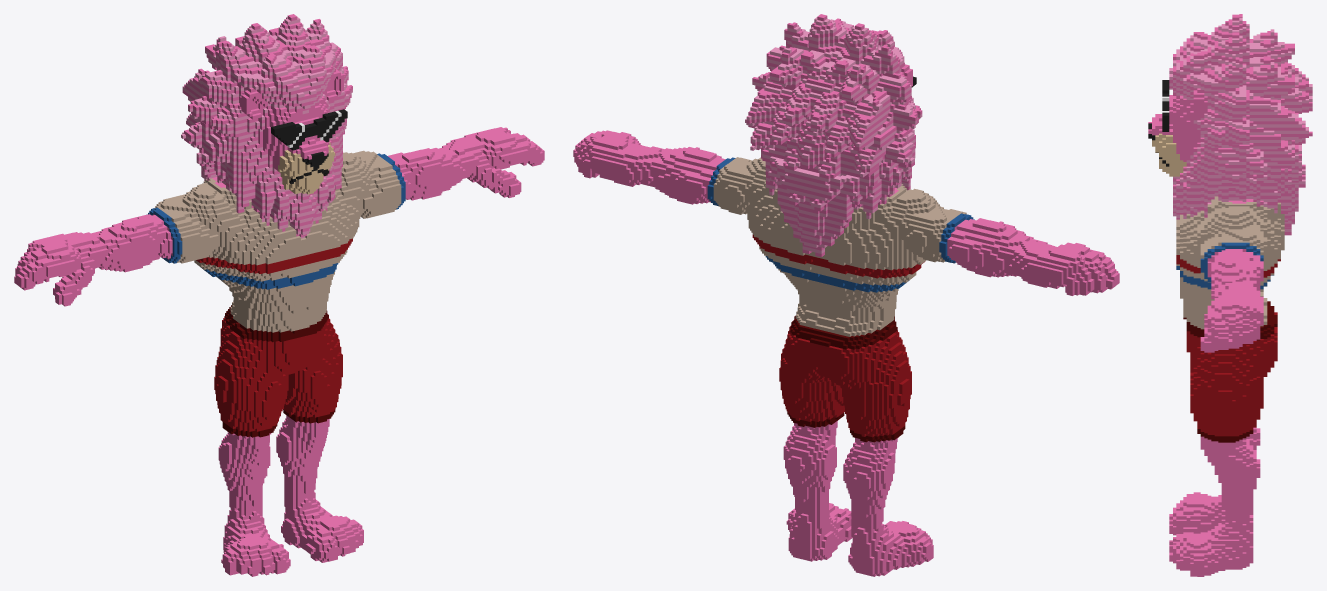
The picture shows the model from 3 angles, left to right: view 1: azimuth 30°, elevation 25°; view 2: azimuth 150°, elevation 25°; view 3: azimuth 270°, elevation 25°; orthographic projection. The views are drawn at different scales.
Parts seen in each view (by area): view 1: sad; view 2: sad; view 3: sad.
Boxes of the visible parts, left/top/right/bottom form: sad: left=14, top=14, right=544, bottom=576; sad: left=573, top=14, right=1119, bottom=576; sad: left=1148, top=14, right=1312, bottom=576.
Bounding box in the file's own units: 17.2 × 16.5 × 4.7.
Materials: 5 (5 with a texture image).
